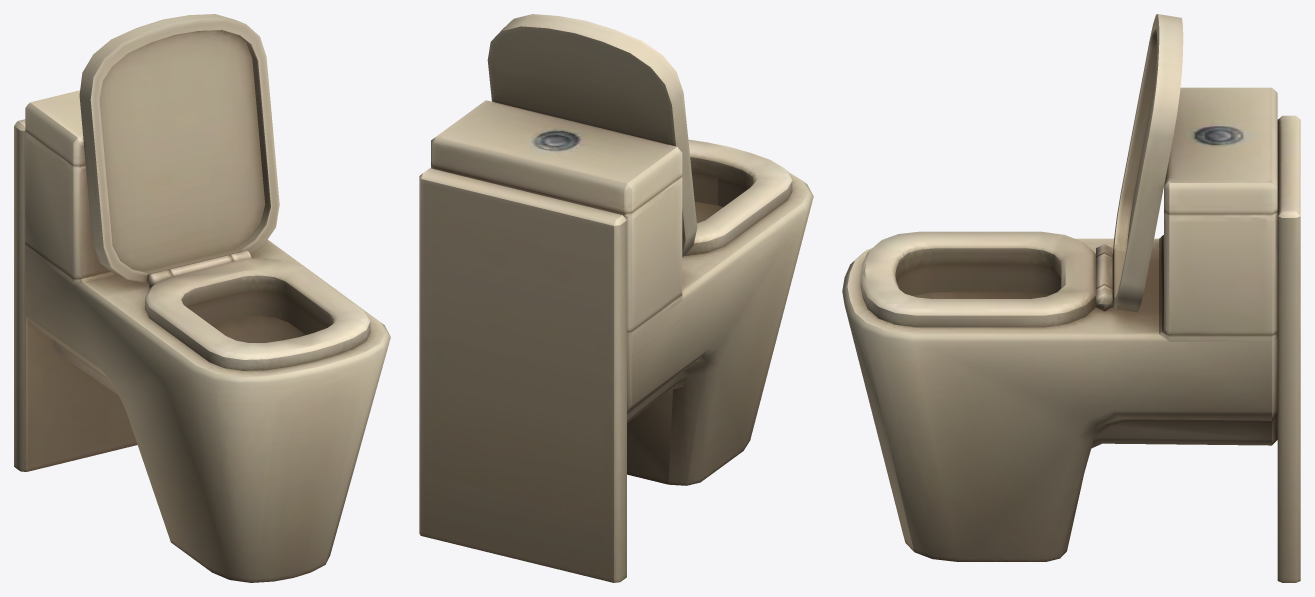
Rendered from tiny_compact_lavatory.glb.
3 views of the same model, side by side, from view 1: azimuth 30°, elevation 25°; view 2: azimuth 150°, elevation 25°; view 3: azimuth 270°, elevation 25° (orthographic). The views are drawn at different scales.
Parts seen in each view (by area): view 1: Object_92; view 2: Object_92; view 3: Object_92.
Part boxes in pixels (x1,y1,x2,y2): Object_92: (14, 14, 390, 582); Object_92: (419, 14, 813, 582); Object_92: (842, 14, 1300, 582).
Bounding box in the file's own units: 0.5617 × 1.3 × 1.09.
Materials: 1 (1 with a texture image).
